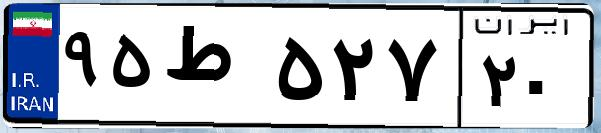0: (525, 38, 570, 115)
2: (330, 28, 385, 110), (475, 38, 525, 113)
5: (270, 28, 330, 110), (110, 28, 158, 98)
7: (385, 28, 445, 110)
9: (57, 26, 110, 100)
ط: (158, 20, 270, 120)
